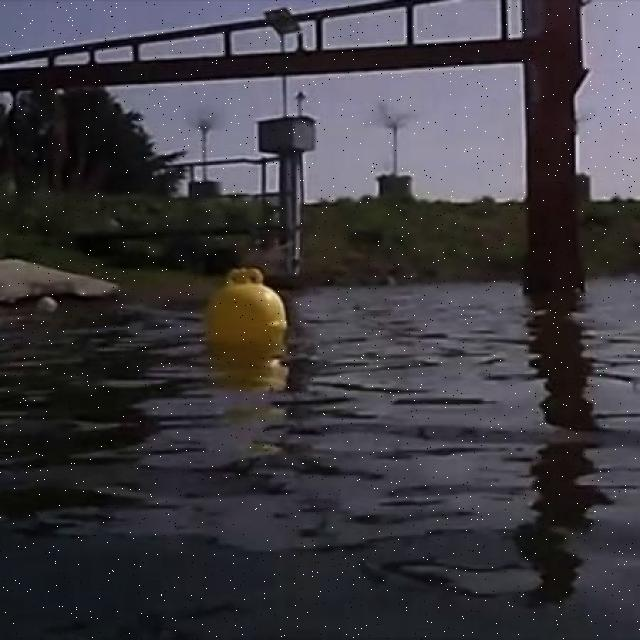buoy: (208, 266, 286, 354)
